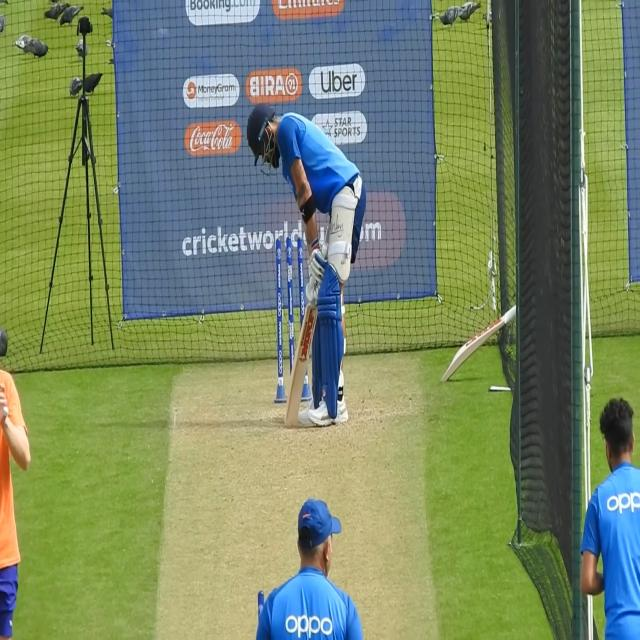stump: (274, 233, 310, 408)
